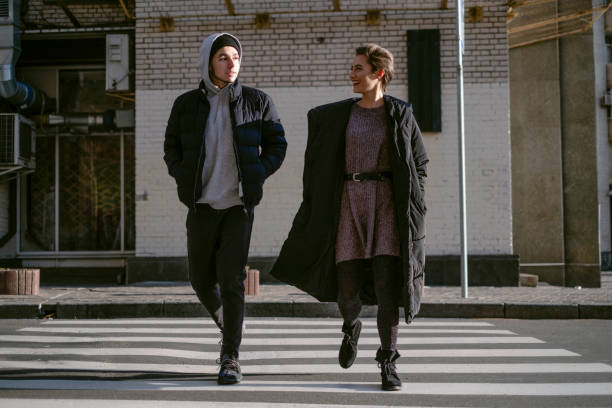yaya: (293, 13, 463, 407), (174, 8, 271, 386)
